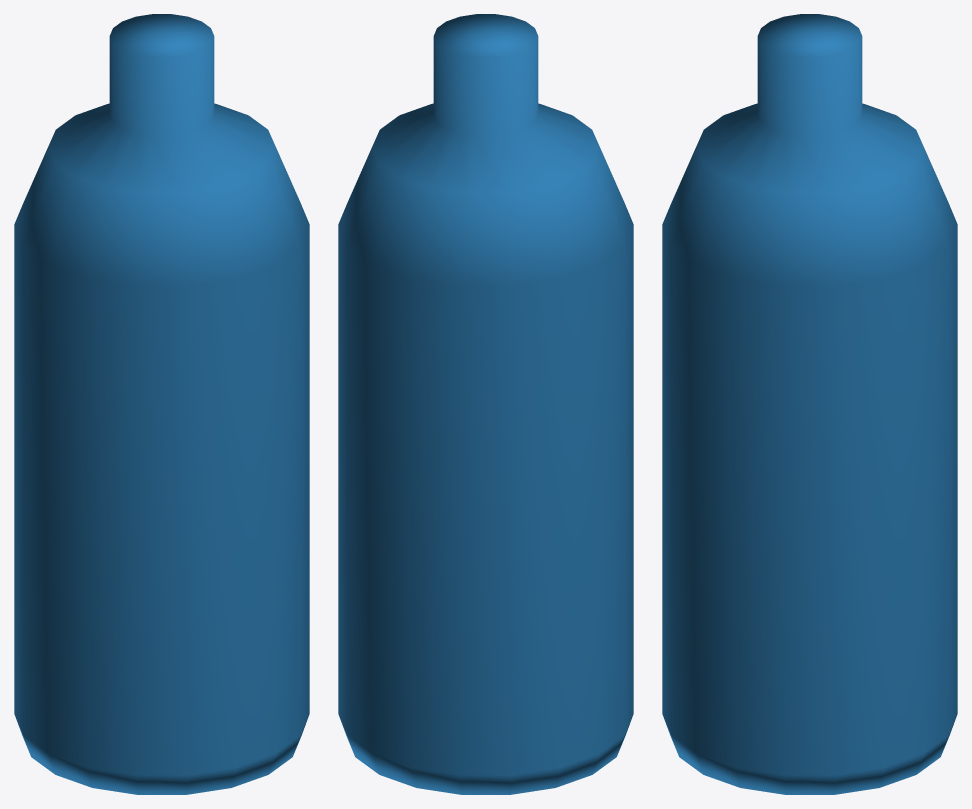
Rendered from NY-C05_All_in_One_Solution.glb.
3 views of the same model, side by side, from view 1: azimuth 30°, elevation 25°; view 2: azimuth 150°, elevation 25°; view 3: azimuth 270°, elevation 25° (orthographic).
Visible parts, largest first — view 1: All_in_One_Solution; view 2: All_in_One_Solution; view 3: All_in_One_Solution.
Boxes of the visible parts, left/top/right/bottom form: All_in_One_Solution: left=14, top=14, right=309, bottom=794; All_in_One_Solution: left=338, top=14, right=633, bottom=794; All_in_One_Solution: left=662, top=14, right=957, bottom=794.
Size of the model in its own units: 0.067 by 0.178 by 0.068.
